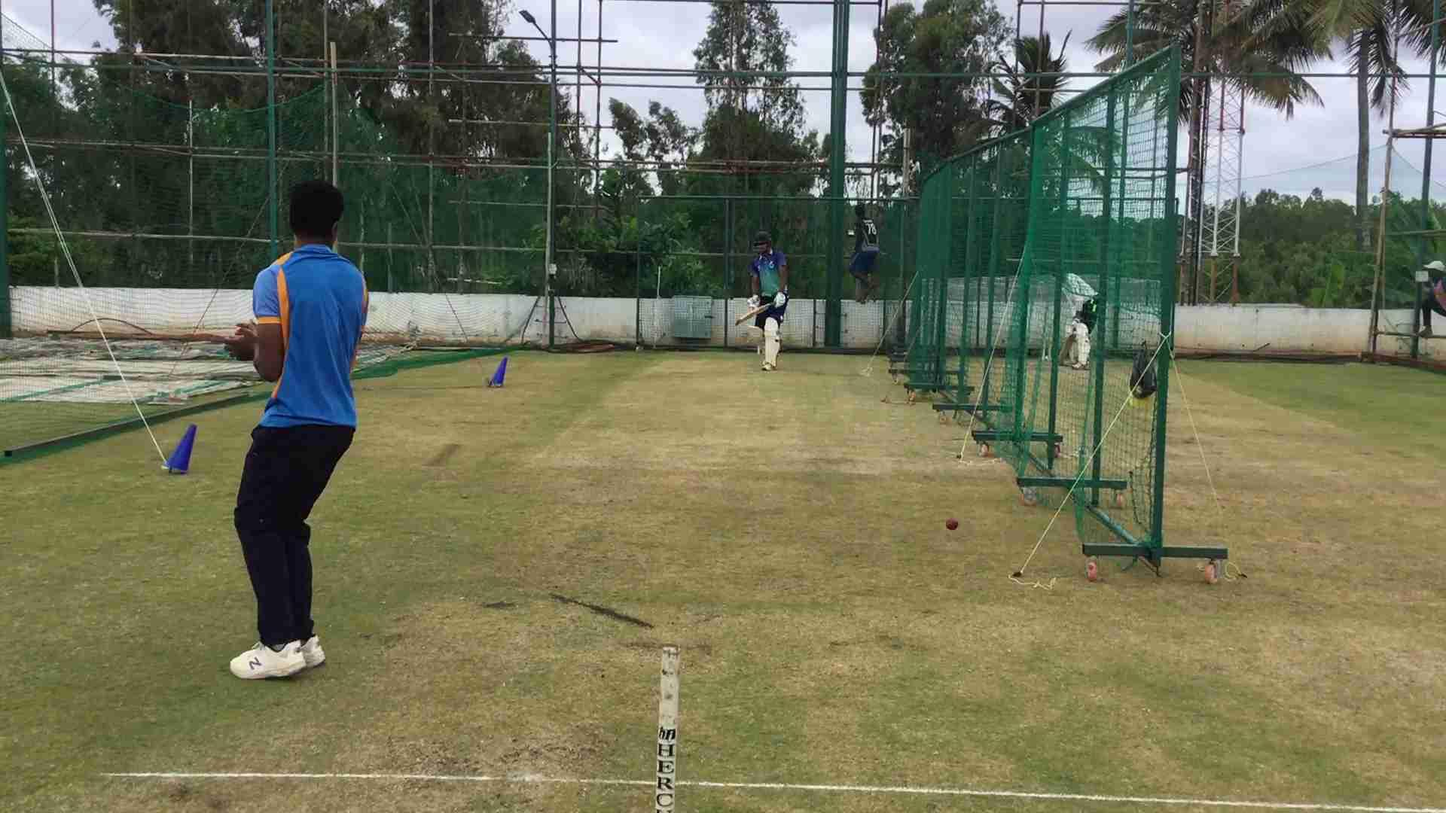batsman: (744, 223, 796, 377)
